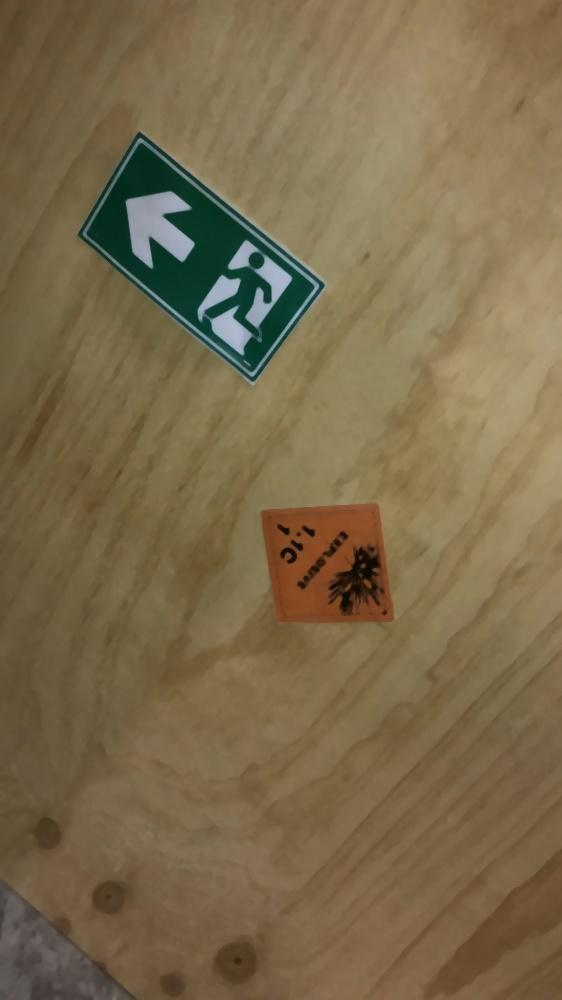explosive: (262, 504, 391, 628)
